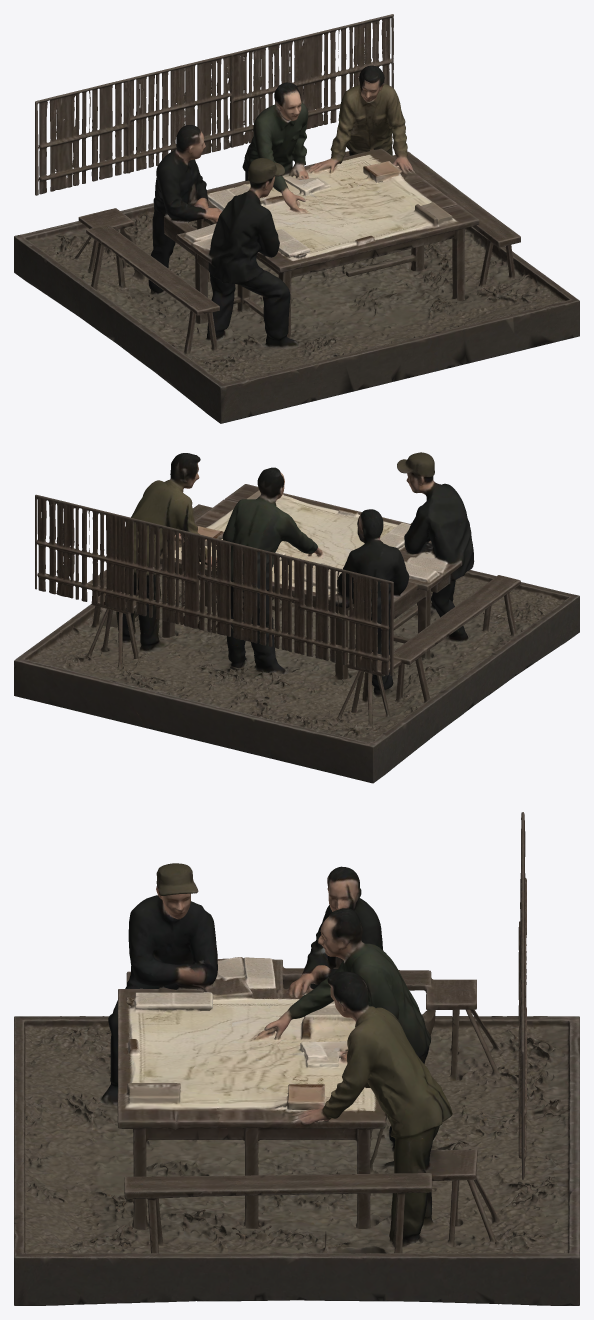
File: dai_tuong_vo_nguyen_giap_chi_huy.glb
3 renders of one model, top to bottom at view 1: azimuth 30°, elevation 25°; view 2: azimuth 150°, elevation 25°; view 3: azimuth 270°, elevation 25°, orthographic. The views are drawn at different scales.
Bounding box in the file's own units: 1.9 × 1.04 × 1.89.
1 material, 1 textured.
